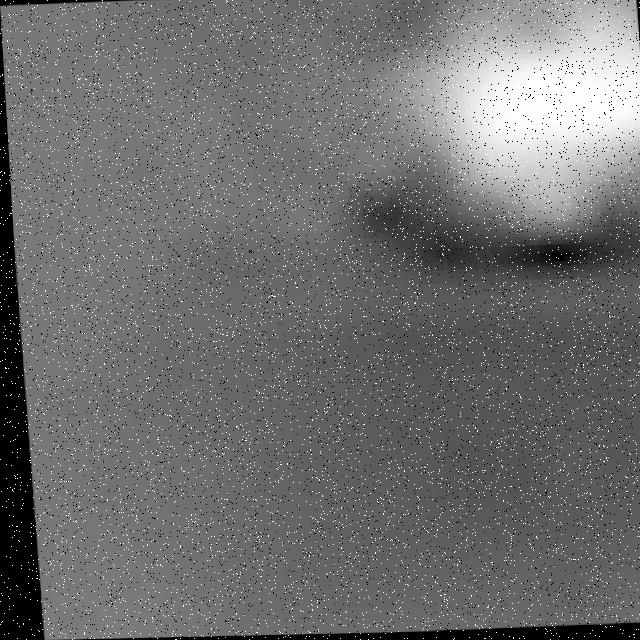person: (339, 1, 640, 215)
